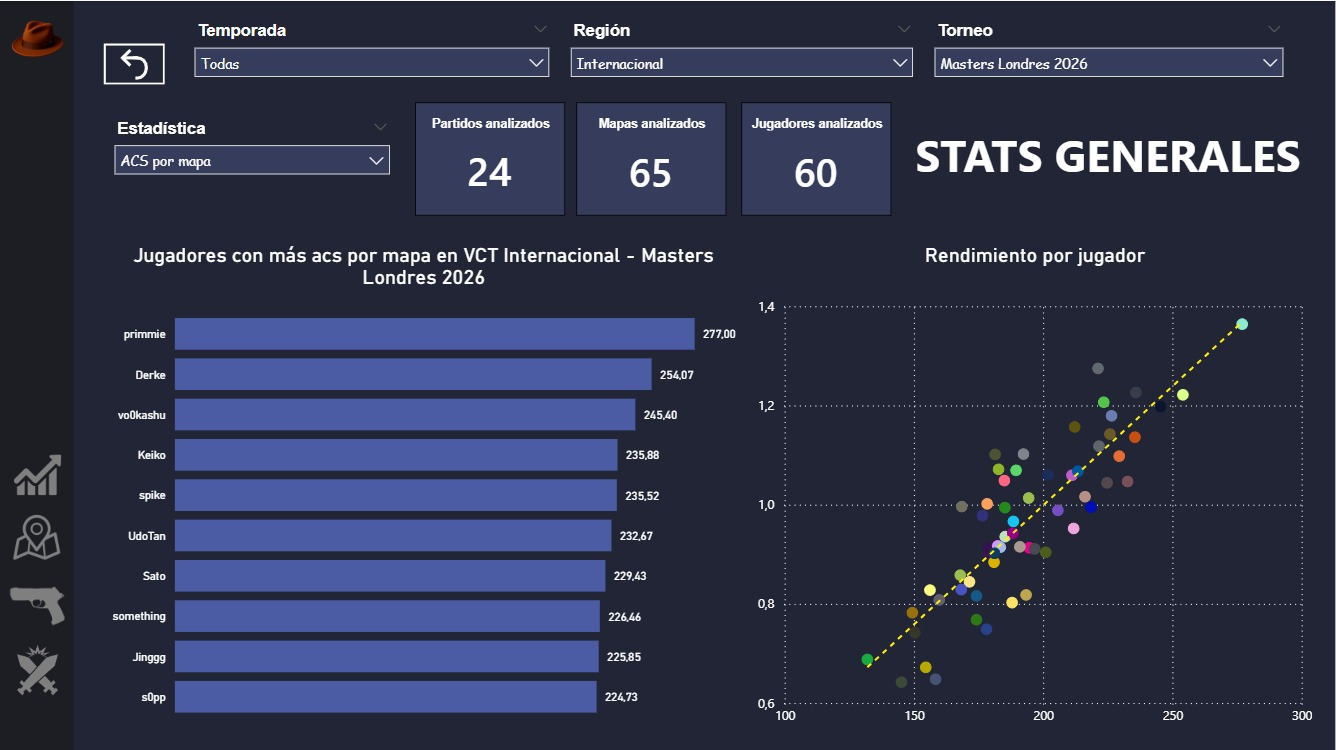

What the dashboard file says about the page in this screenshot:
{"tool":"powerbi","page":{"name":"Generales","canvas":[1280,720],"ordinal":0},"visuals":[{"type":"shape","box":[0,0,70.7,720.3],"z":0},{"type":"image","box":[7.2,8.4,58.7,61.1],"z":1000},{"type":"image","box":[13.2,431.5,45.5,45.5],"z":2000},{"type":"image","box":[10.8,486.6,49.1,55.1],"z":3000},{"type":"image","box":[8.4,541.7,55.1,76.7],"z":4000},{"type":"image","box":[6,598.1,59.9,89.9],"z":5000},{"type":"slicer","fields":{"Values":["competitions.season"]},"box":[175.9,14.1,360.7,82.7],"z":6000},{"type":"slicer","fields":{"Values":["competitions.region"]},"box":[536.6,14.1,348.8,93.5],"z":7000},{"type":"slicer","fields":{"Values":["competitions.name"]},"box":[885.4,14.1,354.8,82.7],"z":8000},{"type":"actionButton","box":[99.5,40.7,58.7,39.6],"z":9000},{"type":"barChart","fields":{"Y":["Medidas.Selected Metric Value"],"Category":["players.name"]},"box":[119.9,216.9,843.7,453],"z":10000},{"type":"slicer","fields":{"Values":["Metric Selector.Metric"]},"box":[99.5,107.9,284,82.7],"z":11000},{"type":"cardVisual","title":"Media","fields":{"Data":["Medidas.Metric Avg"]},"box":[558.5,111.5,117.5,75.5],"z":12000},{"type":"cardVisual","title":"Mínimo","fields":{"Data":["Medidas.Metric Min"]},"box":[411.1,111.5,117.5,75.5],"z":13000},{"type":"cardVisual","title":"Máximo","fields":{"Data":["Medidas.Metric Max"]},"box":[696.3,111.5,117.5,75.5],"z":14000},{"type":"cardVisual","title":"Partidos analizados","fields":{"Data":["Medidas.Partidos analizados"]},"box":[1013.9,226.5,210.9,134.2],"z":15000},{"type":"cardVisual","title":"Mapas analizados","fields":{"Data":["Medidas.Mapas analizados"]},"box":[1013.9,383.5,210.9,142.6],"z":16000},{"type":"cardVisual","title":"Jugadores analizados","fields":{"Data":["Medidas.Jugadores analizados"]},"box":[1013.9,541.7,210.9,142.6],"z":17000},{"type":"textbox","box":[839,110.3,415.9,79.1],"z":18000}]}

Visuals, with their boxes on the page's 1280x720 design canvas (x1, y1, x2, y2). These are canvas units, not pixel positions in the 1336x750 screenshot, which may show the page scaled, cropped or inside an application window:
shape: detection(0, 0, 71, 720)
image: detection(7, 8, 66, 70)
image: detection(13, 432, 59, 477)
image: detection(11, 487, 60, 542)
image: detection(8, 542, 64, 618)
image: detection(6, 598, 66, 688)
slicer - competitions.season: detection(176, 14, 537, 97)
slicer - competitions.region: detection(537, 14, 885, 108)
slicer - competitions.name: detection(885, 14, 1240, 97)
actionButton: detection(100, 41, 158, 80)
barChart - Medidas.Selected Metric Value x players.name: detection(120, 217, 964, 670)
slicer - Metric Selector.Metric: detection(100, 108, 384, 191)
"Media" cardVisual: detection(558, 112, 676, 187)
"Mínimo" cardVisual: detection(411, 112, 529, 187)
"Máximo" cardVisual: detection(696, 112, 814, 187)
"Partidos analizados" cardVisual: detection(1014, 226, 1225, 361)
"Mapas analizados" cardVisual: detection(1014, 384, 1225, 526)
"Jugadores analizados" cardVisual: detection(1014, 542, 1225, 684)
textbox: detection(839, 110, 1255, 189)
